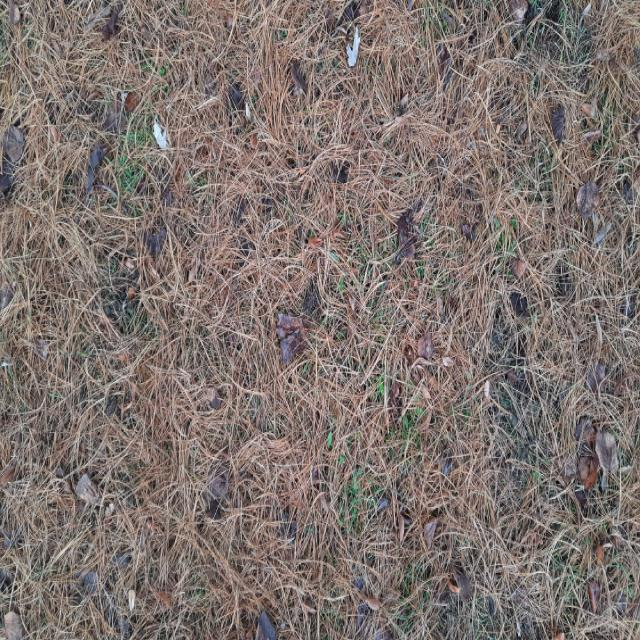white-sand: (131, 199, 137, 205)
